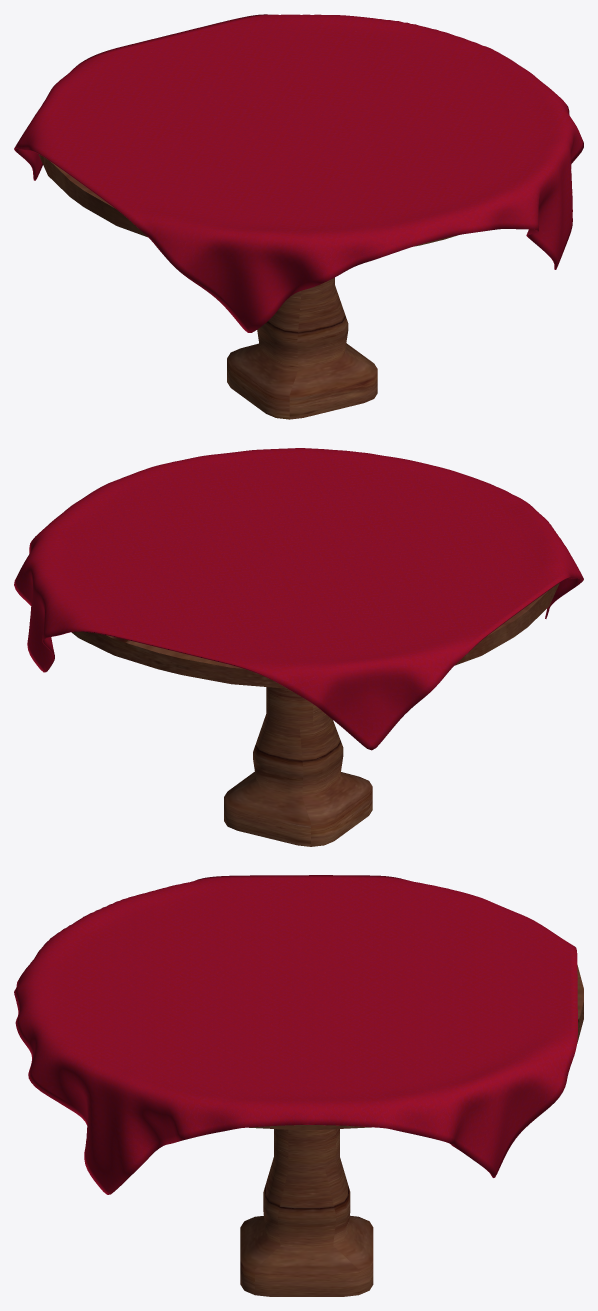
Rendered from Mejatengah.fbx.
3 renders of one model, top to bottom at view 1: azimuth 30°, elevation 25°; view 2: azimuth 150°, elevation 25°; view 3: azimuth 270°, elevation 25°, orthographic. The views are drawn at different scales.
Parts seen in each view (by area): view 1: Mejatengah_LOD0; view 2: Mejatengah_LOD0; view 3: Mejatengah_LOD0.
Boxes of the visible parts, box(x1,y1,x2,y2) form: Mejatengah_LOD0: box(14, 14, 583, 419); Mejatengah_LOD0: box(14, 448, 583, 846); Mejatengah_LOD0: box(14, 875, 583, 1296).
Size of what is drawn, in the model's own units: 197 by 108 by 199.
Materials: 2 (2 with a texture image).
